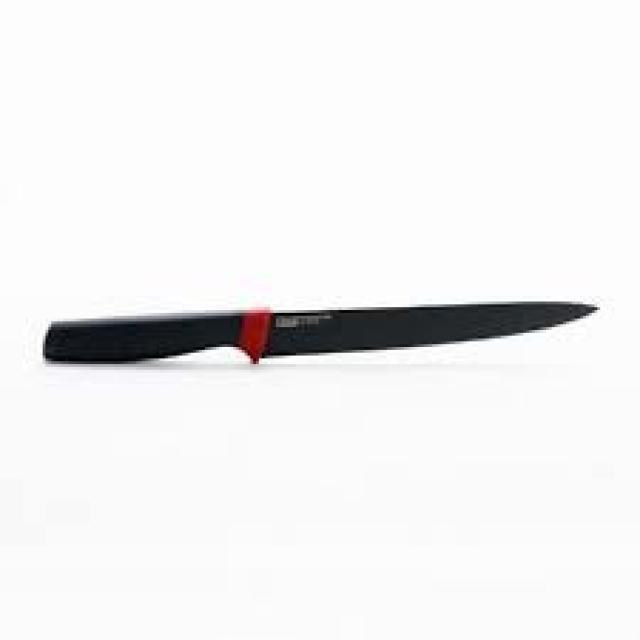Knife: (40, 304, 600, 364)
